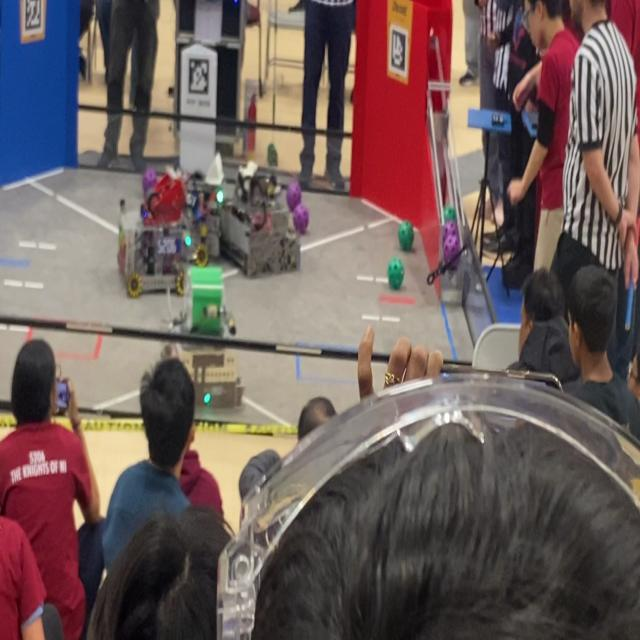artifact_green: (388, 258, 404, 290), (398, 222, 414, 251), (268, 143, 278, 167), (444, 205, 457, 222)
artifact_purple: (443, 225, 460, 269), (293, 203, 309, 234), (286, 182, 301, 212), (142, 168, 157, 194), (443, 222, 457, 238)
